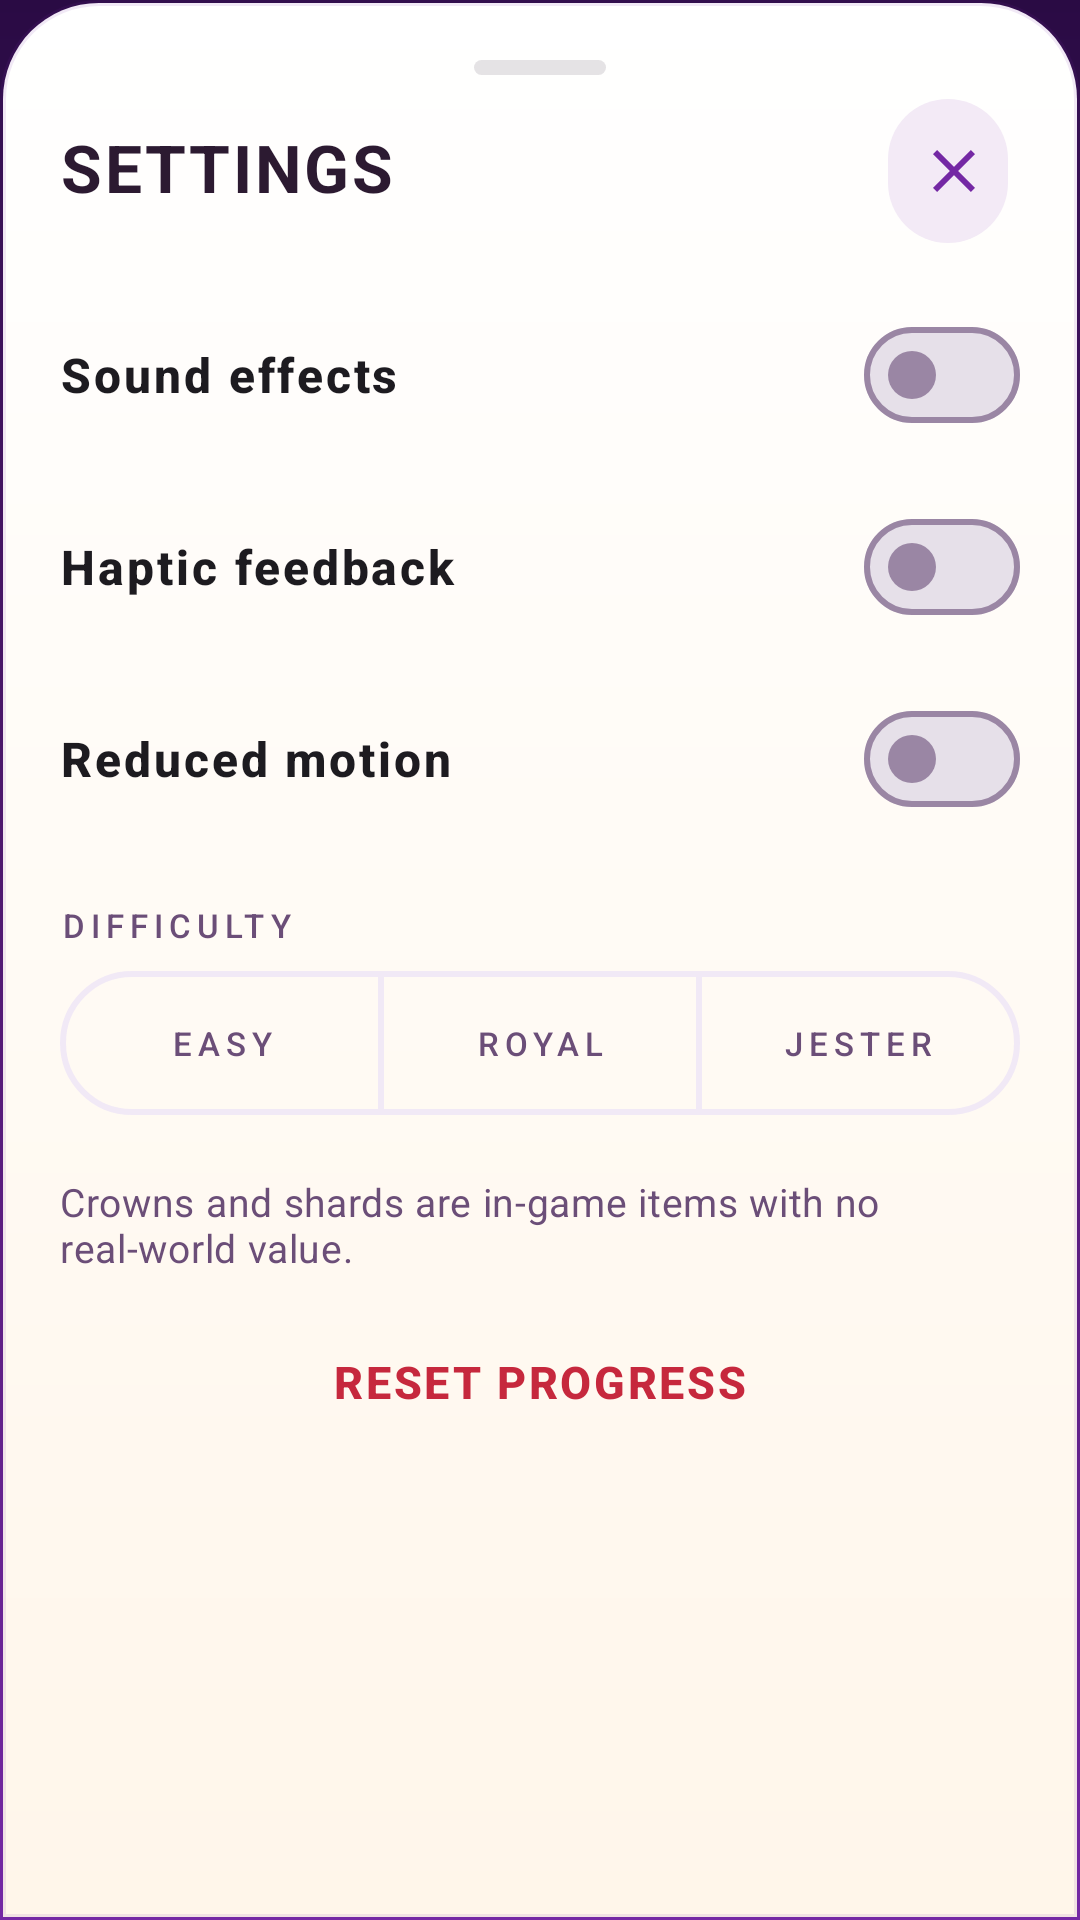

Where icons sit on this 1080×1920 app screen, as (x1, y1, x2, y2):
Close: (888, 99, 1008, 243)
